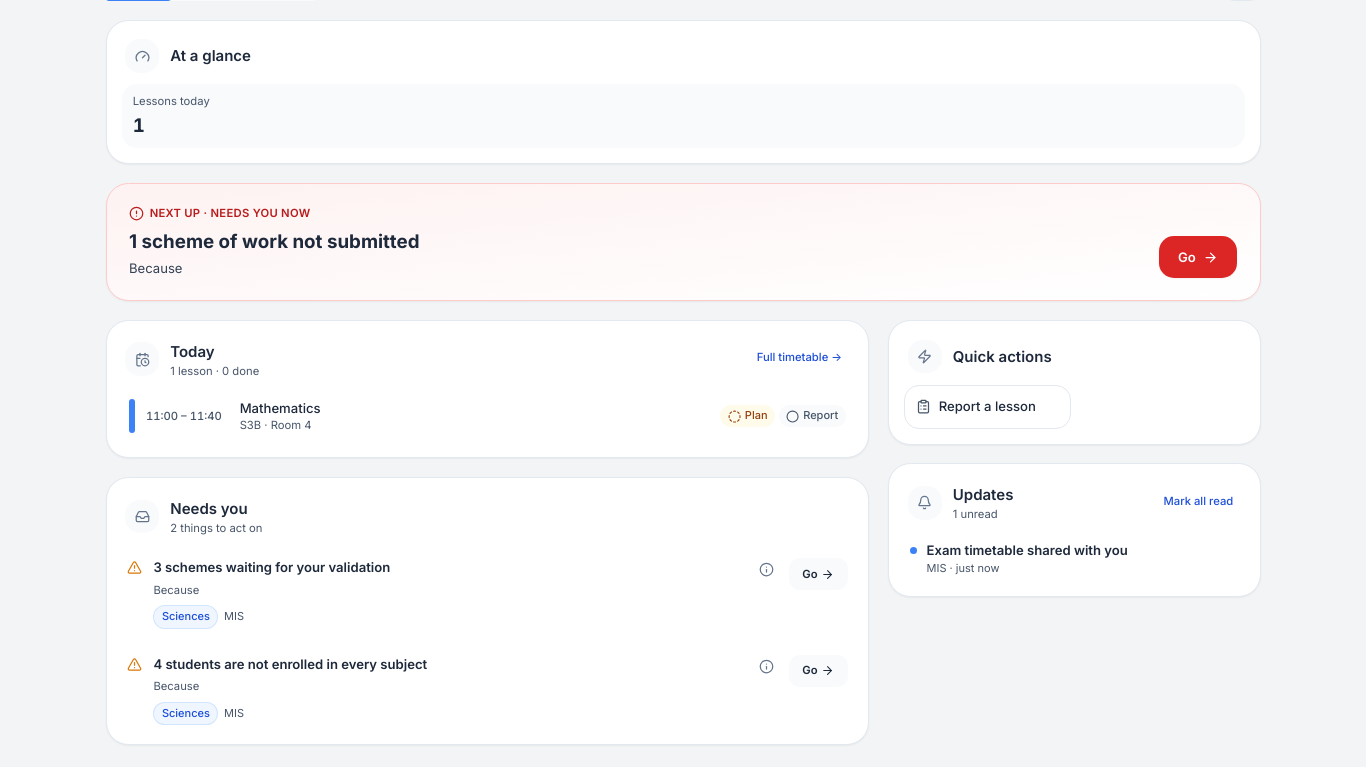
Test: Home › explains why an item is shown
(page scrolled)
Expected: the text "3 schemes waiting for your validation" is shown, [153,558,390,577]
What coordinates should you click on to do the following:
click the 2nd button named "Why am I seeing this?"
I would click on:
 (767, 666)
Its box is [752,651,782,681].
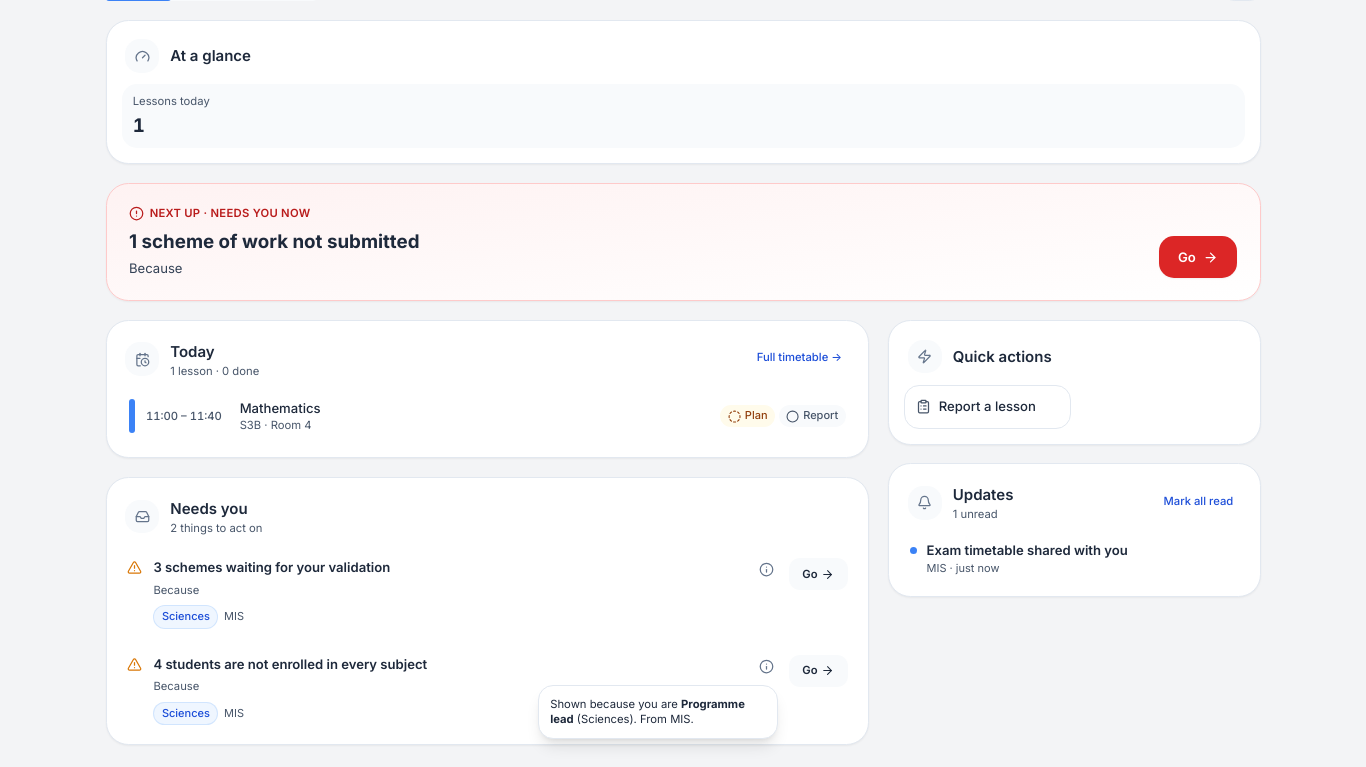
Now the tooltip shows "Programme lead", box [550,697,745,726]
